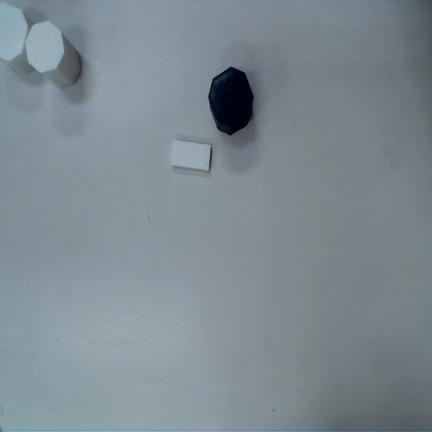Paralelepipedo: (171, 140, 211, 171)
Prisma_hexagonal: (26, 21, 81, 87), (208, 67, 254, 135), (0, 2, 35, 74)
